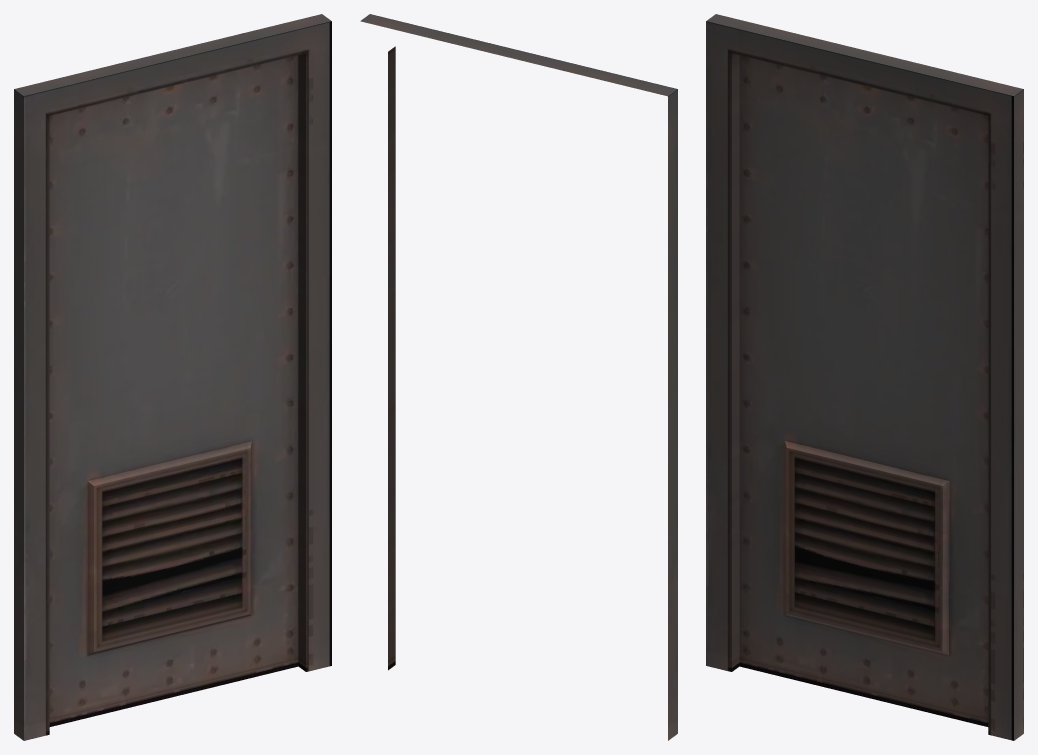
3 views of the same model, side by side, from view 1: azimuth 30°, elevation 25°; view 2: azimuth 150°, elevation 25°; view 3: azimuth 330°, elevation 25° (orthographic).
Parts seen in each view (by area): view 1: body0_model0_lod0_mesh0; view 2: body0_model0_lod0_mesh0; view 3: body0_model0_lod0_mesh0.
Boxes of the visible parts, x1=… form: body0_model0_lod0_mesh0: x1=14, y1=14, x2=331, y2=740; body0_model0_lod0_mesh0: x1=360, y1=14, x2=677, y2=740; body0_model0_lod0_mesh0: x1=706, y1=14, x2=1023, y2=740.
Size of the model in its own units: 56.01 by 112 by 3.13.
1 material, 1 textured.
